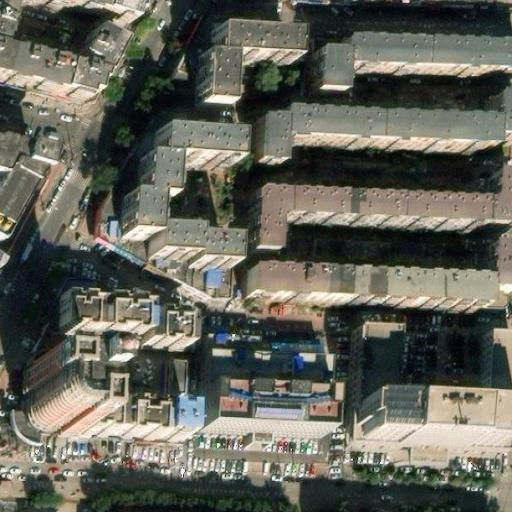building: (98, 127, 232, 299), (0, 13, 125, 108), (243, 270, 479, 313), (275, 194, 483, 233), (350, 414, 508, 460), (337, 42, 512, 81), (213, 330, 339, 382), (278, 118, 485, 148), (198, 396, 325, 442), (0, 134, 51, 235), (355, 333, 405, 417), (122, 156, 173, 237), (26, 365, 88, 430), (53, 295, 138, 332), (154, 227, 234, 265), (156, 127, 236, 162), (210, 29, 291, 60), (86, 400, 160, 432), (243, 192, 276, 258), (487, 346, 512, 423), (195, 57, 229, 110), (482, 175, 512, 234), (478, 249, 512, 296), (136, 315, 186, 345), (249, 120, 278, 168), (307, 54, 337, 99), (484, 98, 512, 140), (159, 403, 194, 434), (164, 361, 188, 394)
